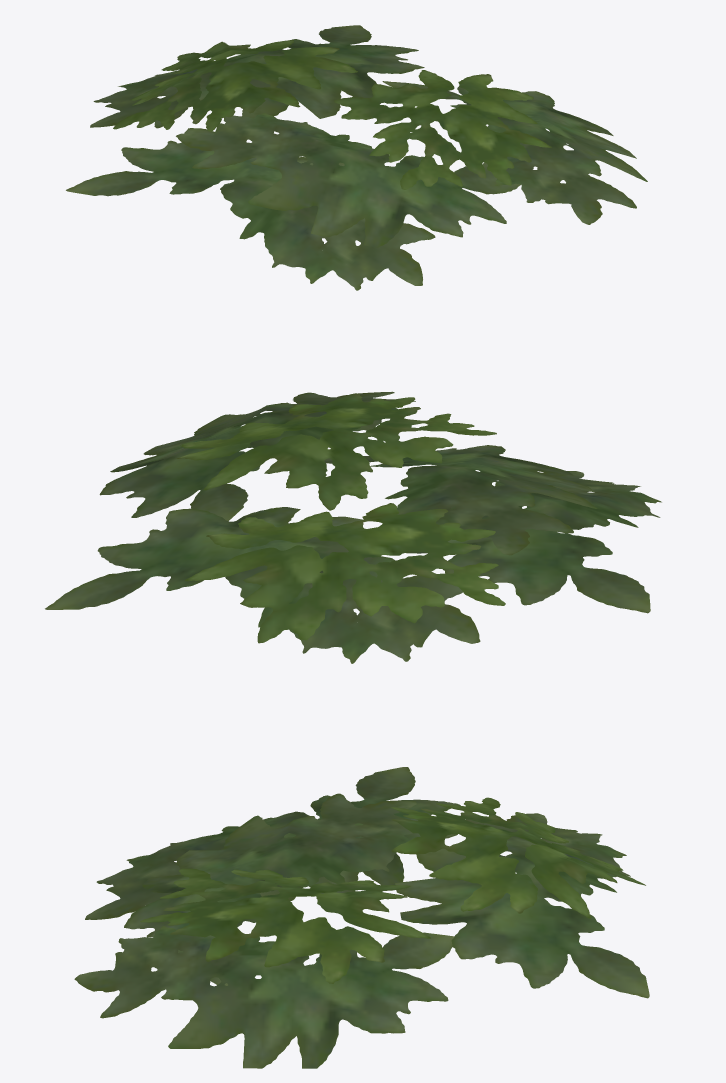
The model's file is grove_A.fbx.
3 views of the same model, one above another, from view 1: azimuth 30°, elevation 25°; view 2: azimuth 150°, elevation 25°; view 3: azimuth 270°, elevation 25° (orthographic). The views are drawn at different scales.
Parts seen in each view (by area): view 1: grove_A; view 2: grove_A; view 3: grove_A.
Part boxes in pixels (x1=…): grove_A: x1=66, y1=25, x2=647, y2=290; grove_A: x1=45, y1=391, x2=661, y2=663; grove_A: x1=74, y1=767, x2=649, y2=1068.
Size of the model in its own units: 4.1 by 0.6737 by 4.14.
